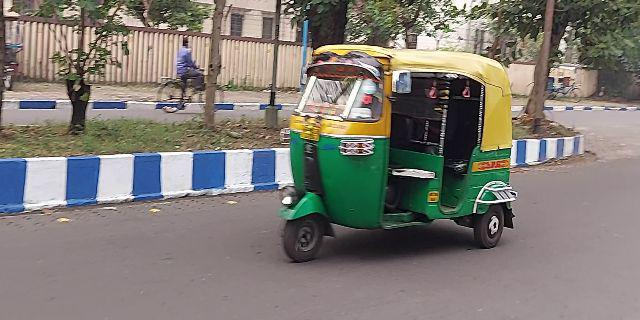Autorickshaw: (279, 49, 517, 271)
Cycle: (153, 37, 228, 117)
